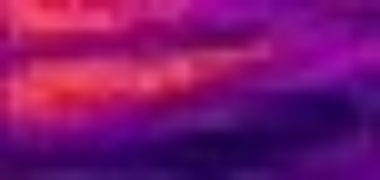Shadow: (1, 94, 379, 179), (177, 1, 380, 95)
